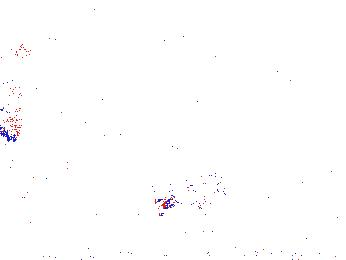flame jellyfish: (1, 48, 49, 143), (269, 173, 346, 228), (154, 164, 228, 221)
